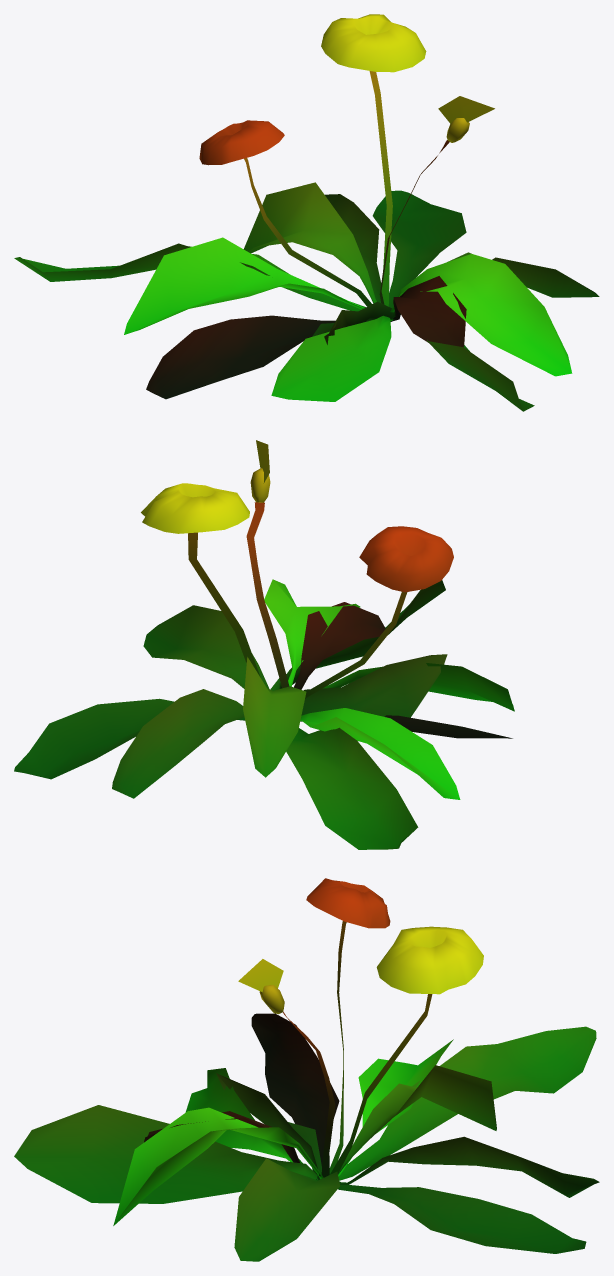
File: SM_OW_Dandelion_b_LOD1.fbx
The picture shows the model from 3 angles, top to bottom: view 1: azimuth 30°, elevation 25°; view 2: azimuth 150°, elevation 25°; view 3: azimuth 270°, elevation 25°; orthographic projection. The views are drawn at different scales.
Visible parts, largest first — view 1: SM_OW_Dandelion_b_LOD1; view 2: SM_OW_Dandelion_b_LOD1; view 3: SM_OW_Dandelion_b_LOD1.
Part boxes in pixels (box(x1,y1,x2,y2)): SM_OW_Dandelion_b_LOD1: box(14, 14, 599, 411); SM_OW_Dandelion_b_LOD1: box(14, 440, 514, 849); SM_OW_Dandelion_b_LOD1: box(14, 878, 599, 1261).
Bounding box in the file's own units: 0.202 × 0.1123 × 0.218.
